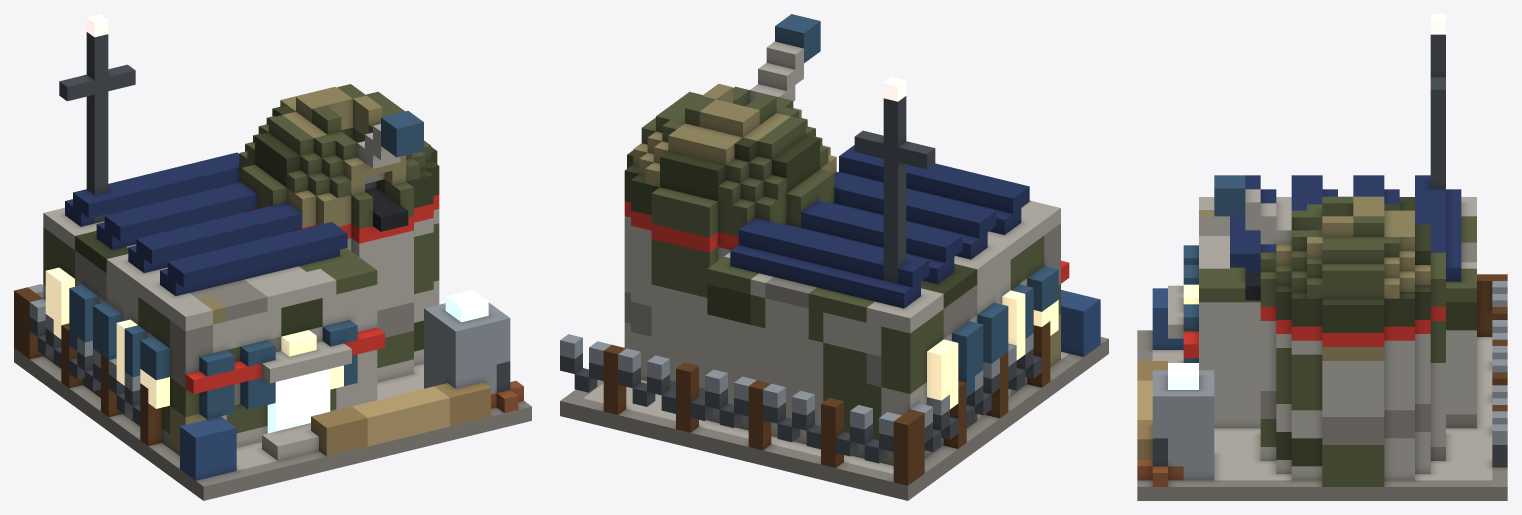
Rendered from cm_lab_0.glb.
3 renders of one model, left to right at view 1: azimuth 30°, elevation 25°; view 2: azimuth 150°, elevation 25°; view 3: azimuth 270°, elevation 25°, orthographic. The views are drawn at different scales.
Parts seen in each view (by area): view 1: cm_lab_0_body; view 2: cm_lab_0_body; view 3: cm_lab_0_body.
Boxes of the visible parts, box(x1,y1,x2,y2) form: cm_lab_0_body: box(14, 14, 531, 500); cm_lab_0_body: box(560, 14, 1108, 500); cm_lab_0_body: box(1137, 14, 1507, 500).
Bounding box in the file's own units: 1.5 × 1.56 × 1.5.
1 material, 1 textured.
